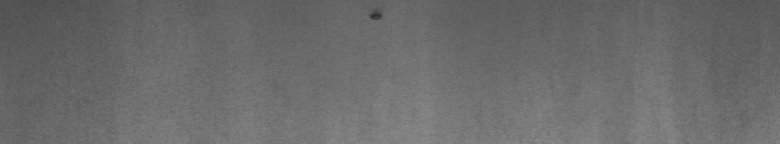fi: (364, 4, 387, 28)
